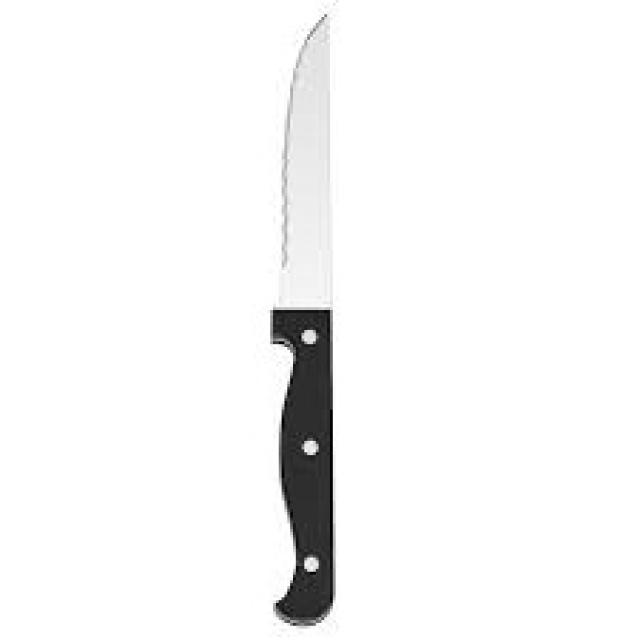knife: (266, 15, 350, 626)
